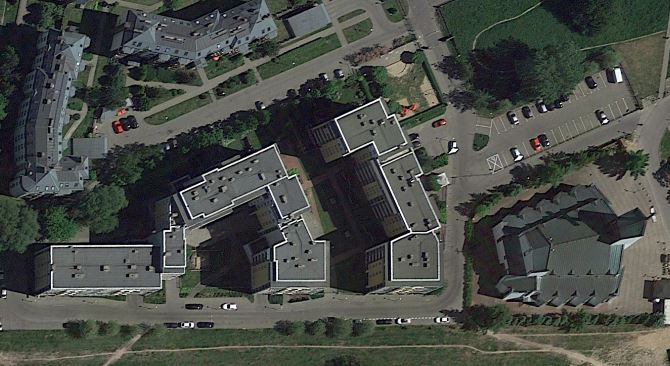block of flats: (27, 135, 345, 304), (303, 78, 462, 324), (1, 22, 108, 209), (104, 1, 281, 77)
church: (483, 170, 662, 321)
